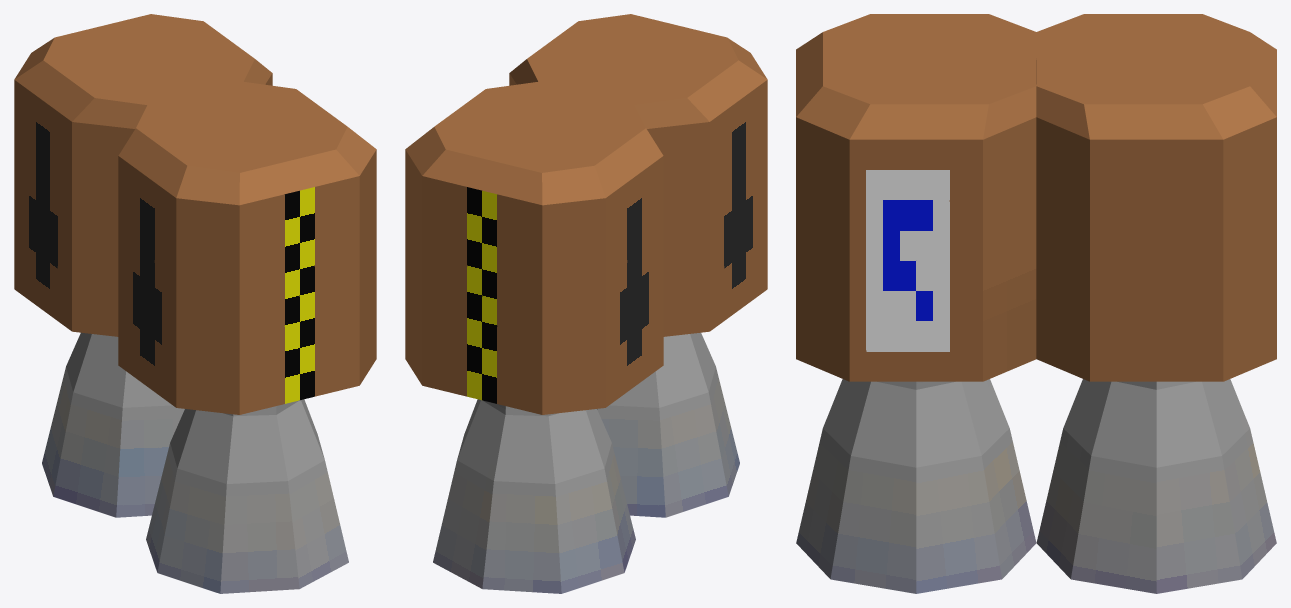
File: jj_mount2.gltf
3 views of the same model, side by side, from view 1: azimuth 30°, elevation 25°; view 2: azimuth 150°, elevation 25°; view 3: azimuth 270°, elevation 25° (orthographic). The views are drawn at different scales.
Parts seen in each view (by area): view 1: cuboid; view 2: cuboid; view 3: cuboid.
Part boxes in pixels (left/top/right/bottom): cuboid: left=14, top=14, right=376, bottom=593; cuboid: left=405, top=14, right=767, bottom=593; cuboid: left=796, top=14, right=1276, bottom=593.
Bounding box in the file's own units: 0.0625 × 0.125 × 0.1125.
1 material, 1 textured.
